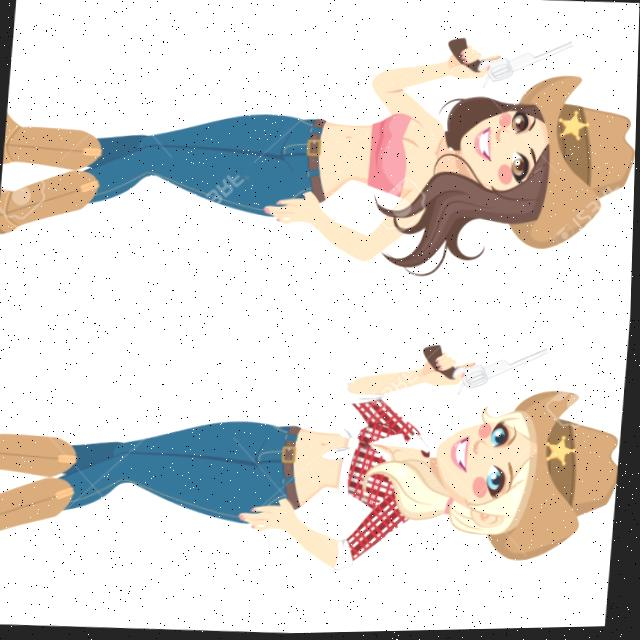pistol: (445, 37, 578, 86), (422, 344, 549, 394)
